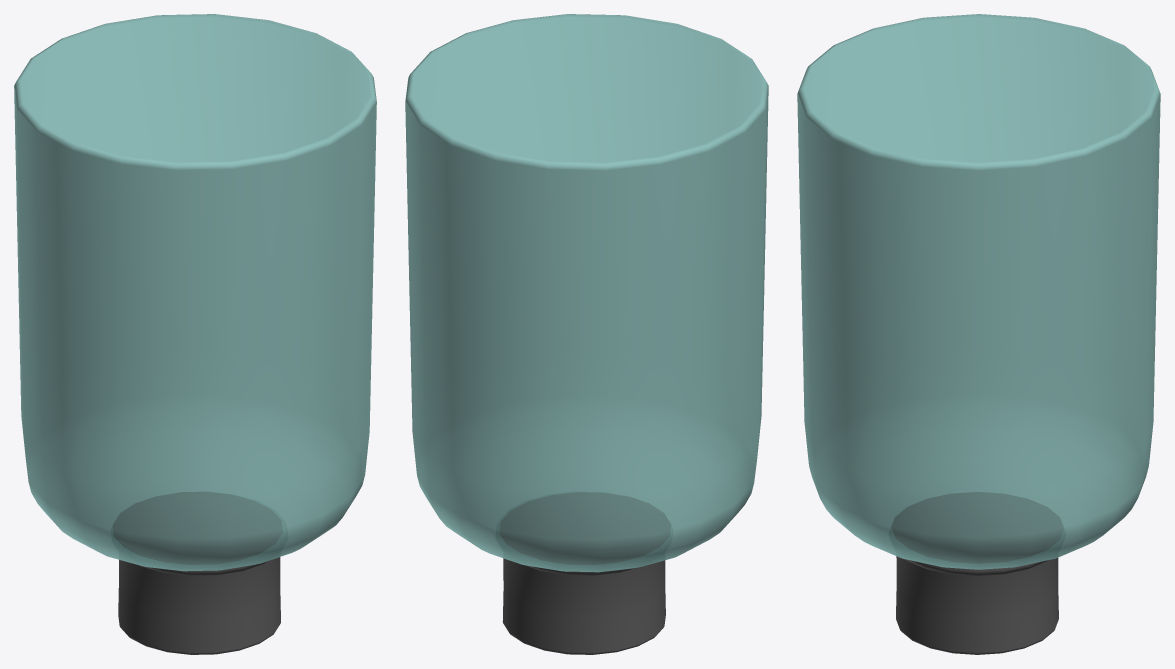
File: choco_color.fbx
3 views of the same model, side by side, from view 1: azimuth 30°, elevation 25°; view 2: azimuth 150°, elevation 25°; view 3: azimuth 270°, elevation 25° (orthographic).
Parts seen in each view (by area): view 1: choco_color; view 2: choco_color; view 3: choco_color.
Boxes of the visible parts, bbox=[...] form: choco_color: bbox=[14, 14, 376, 654]; choco_color: bbox=[405, 14, 768, 654]; choco_color: bbox=[797, 14, 1160, 654].
Bounding box in the file's own units: 3.47 × 5.6 × 3.47.
